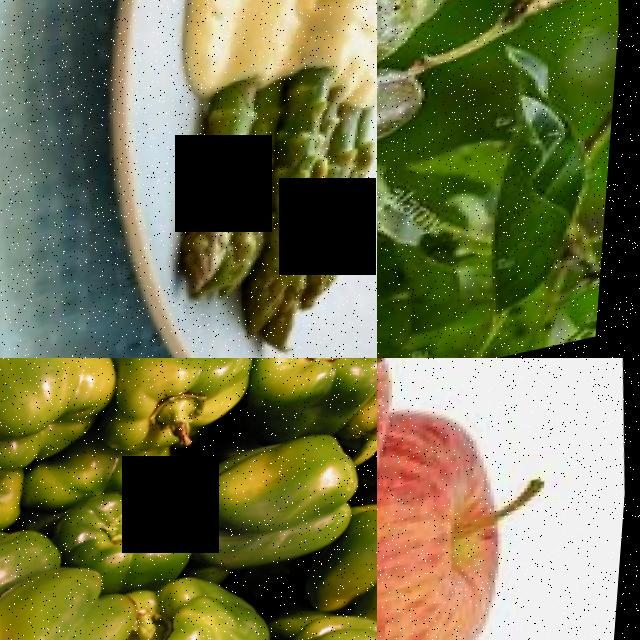apple: (377, 398, 533, 640)
asparagus: (258, 134, 356, 343), (176, 112, 274, 283)
avocado: (377, 0, 490, 113), (377, 58, 437, 238)
bell pepper: (196, 430, 366, 583), (110, 358, 258, 462), (0, 358, 109, 487), (63, 487, 190, 580), (252, 358, 377, 441), (0, 571, 141, 640), (141, 574, 280, 640), (331, 518, 377, 640), (0, 530, 38, 619)
